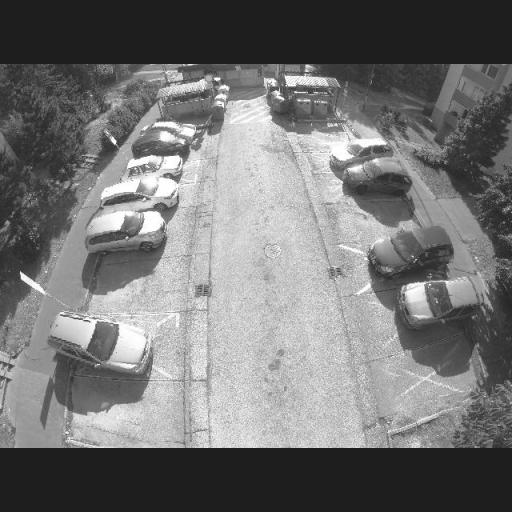busy: (40, 310, 155, 373), (393, 274, 482, 332), (363, 227, 453, 280), (92, 174, 182, 216), (80, 209, 163, 252), (343, 160, 414, 197), (328, 138, 398, 169), (120, 154, 182, 179), (133, 134, 195, 159), (140, 118, 194, 144)
free: (398, 352, 468, 410), (86, 393, 164, 444), (106, 268, 164, 312), (338, 198, 402, 236), (309, 130, 344, 154)
